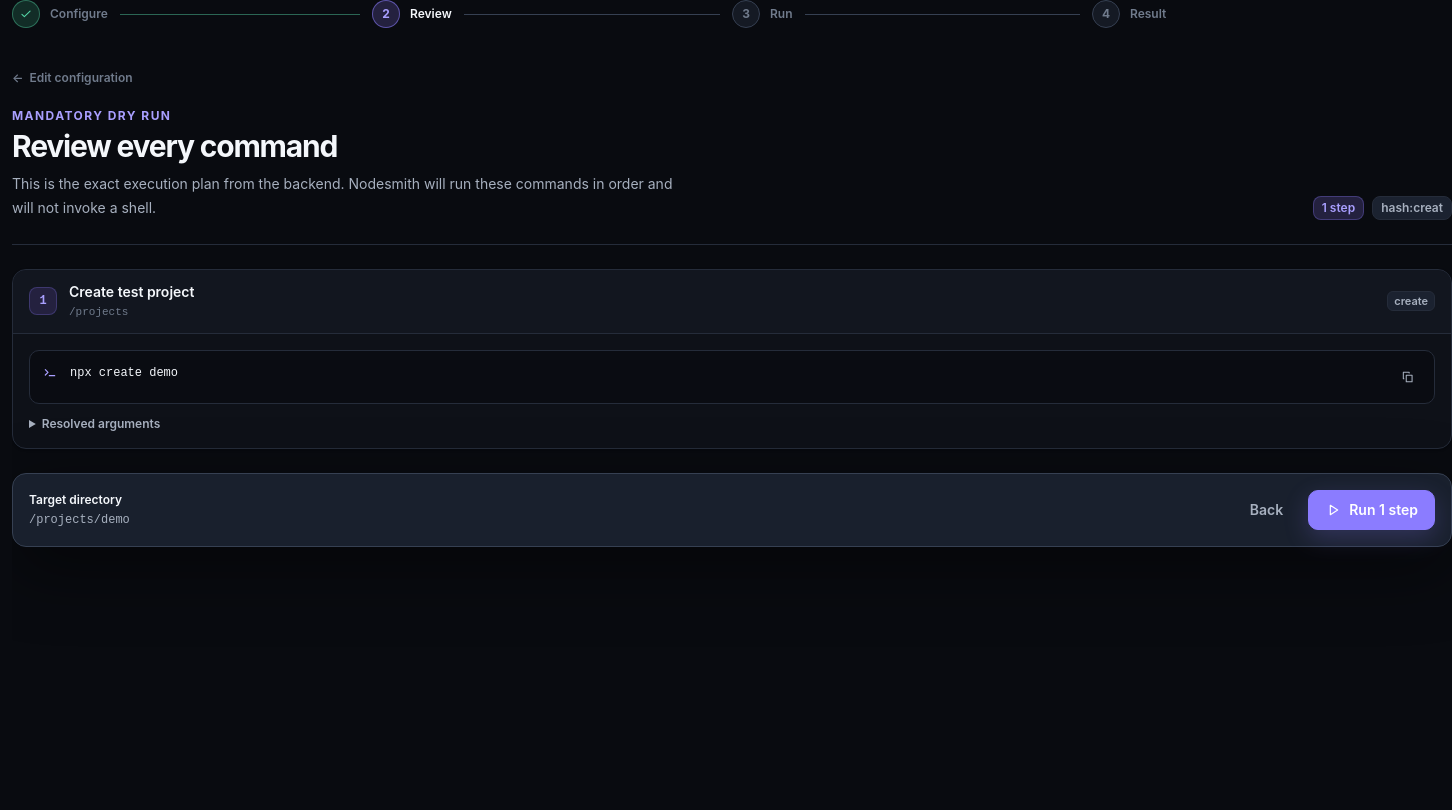
wizard review gate, end to end over a stubbed bridge › refuses to start when the plan changed after review
Expected: the text "npx create demo" is shown, [70,366,178,380]
What coordinates should you click on to do the following:
click the button "Run 1 step"
I would click on:
 (1372, 510)
Its box is [1308,490,1435,530].
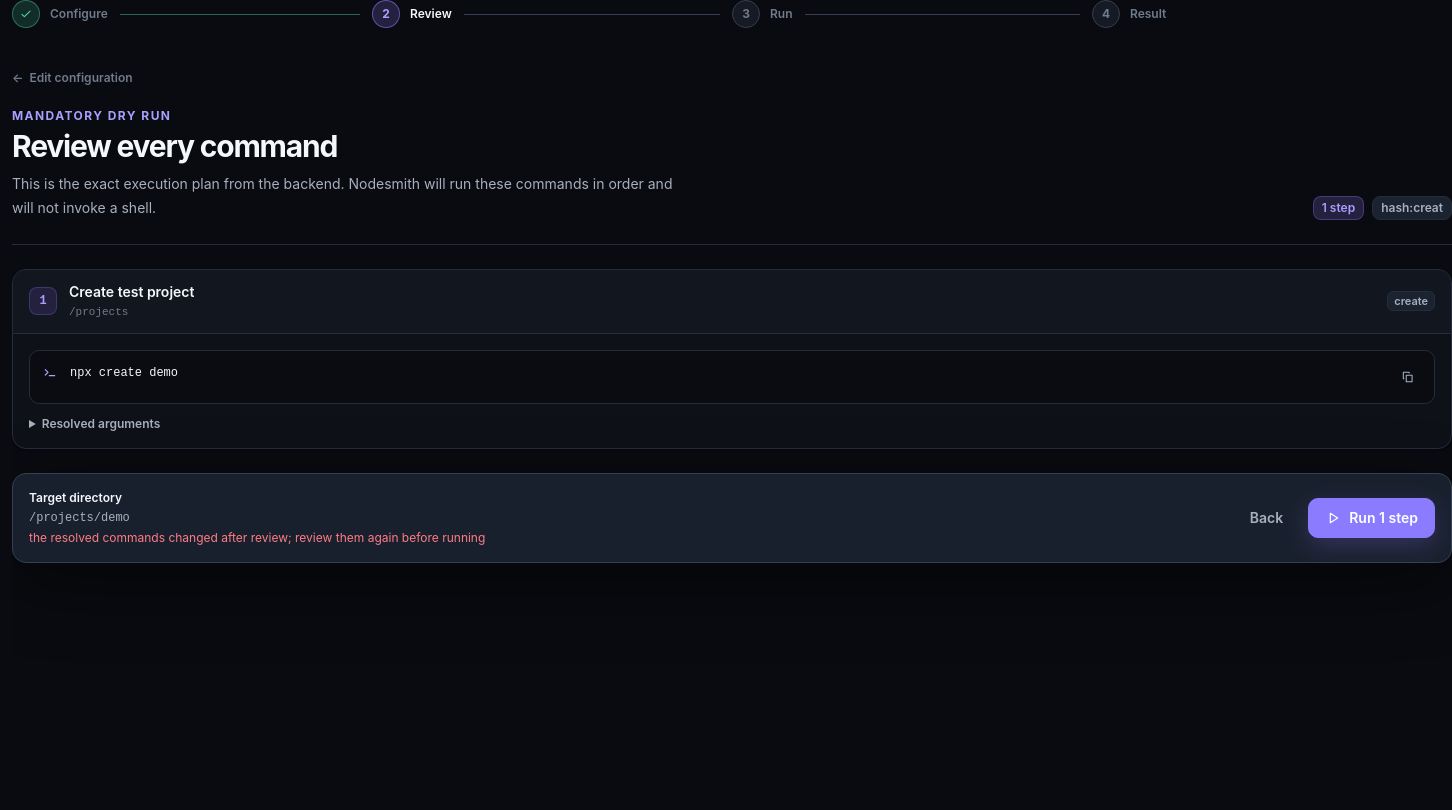
Expected: the text "the resolved commands changed after review; review them again before running" is shown, [29,530,485,546]
